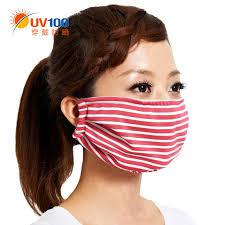OK: (83, 63, 191, 172)
